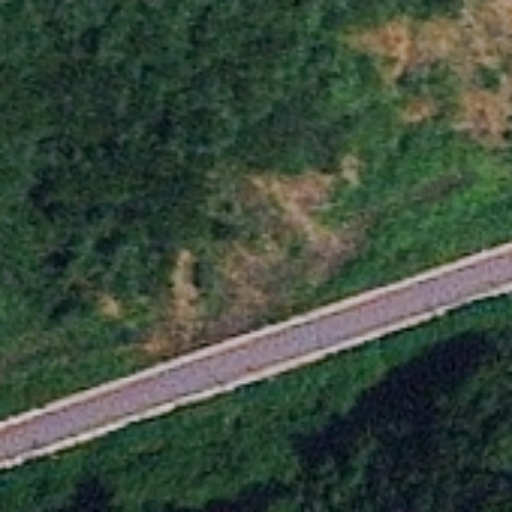landslide: (136, 148, 360, 355), (363, 5, 510, 76)
